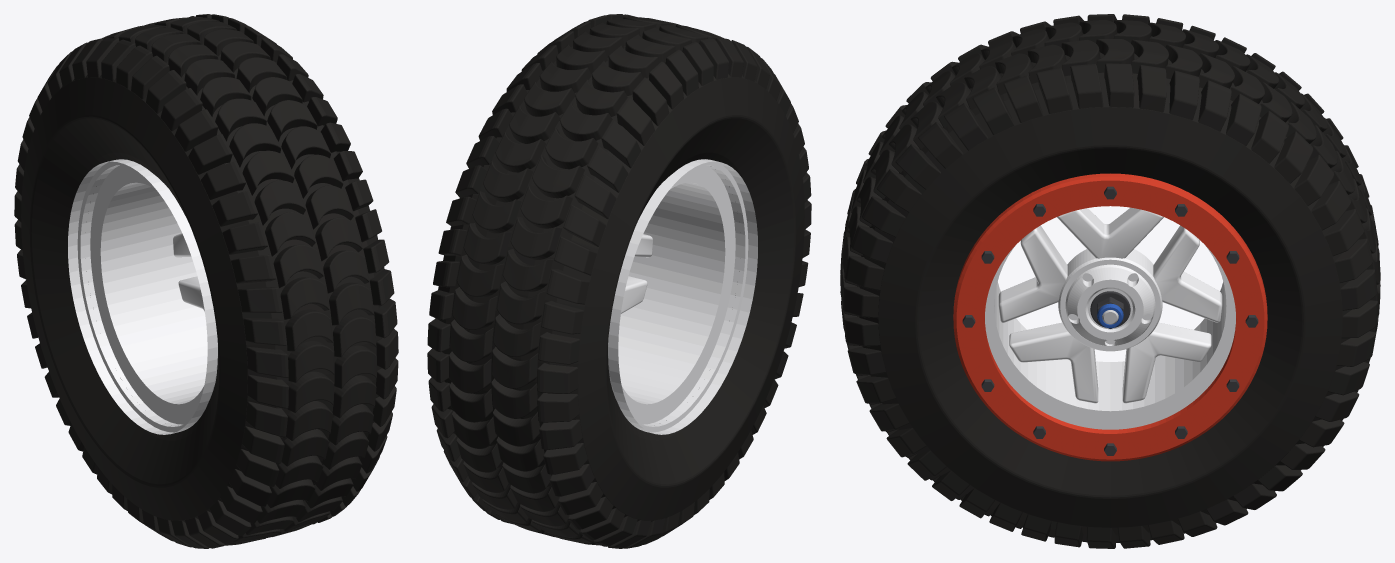
Rendered from traxxas_6873T_wheel_R.dae.
The picture shows the model from 3 angles, left to right: view 1: azimuth 30°, elevation 25°; view 2: azimuth 150°, elevation 25°; view 3: azimuth 270°, elevation 25°; orthographic projection. The views are drawn at different scales.
Visible parts, largest first — view 1: Tire_Carcass, Wheel_Barrel, Tread_UnitMesh_R.016, Tread_UnitMesh_R.022, Tread_UnitMesh_R.018, Tread_UnitMesh_R.023, Tread_UnitMesh_R.014, Tread_UnitMesh_R.006, Tread_UnitMesh_R.012, Tread_UnitMesh_R.004, Tread_UnitMesh_R.001, Tread_UnitMesh_R.009 (+7 smaller); view 2: Tire_Carcass, Wheel_Barrel, Tread_UnitMesh_R.015, Tread_UnitMesh_R.020, Tread_UnitMesh_R.008, Tread_UnitMesh_R.011, Tread_UnitMesh_R.010, Tread_UnitMesh_R.002, Tread_UnitMesh_R.009, Tread_UnitMesh_R.005, Tread_UnitMesh_R.004, Tread_UnitMesh_R.019 (+7 smaller); view 3: Tire_Carcass, Cylinder_001, Spoke_0, Wheel_Barrel, Cylinder, Tread_UnitMesh_R.004, Tread_UnitMesh_R.009, Tread_UnitMesh_R.006, Tread_UnitMesh_R.010, Tread_UnitMesh_R.023, Tread_UnitMesh_R.020, Tread_UnitMesh_R.022 (+19 smaller).
Part boxes in pixels (x1,y1,x2,y2): Tire_Carcass: (21,43,384,522); Wheel_Barrel: (68,159,217,434); Tread_UnitMesh_R.016: (243,269,397,382); Tread_UnitMesh_R.022: (212,151,373,256); Tread_UnitMesh_R.018: (231,209,389,319); Tread_UnitMesh_R.023: (188,97,350,199); Tread_UnitMesh_R.014: (246,329,398,440); Tread_UnitMesh_R.006: (160,54,323,151); Tread_UnitMesh_R.012: (236,386,396,488); Tread_UnitMesh_R.004: (131,26,292,113); Tread_UnitMesh_R.001: (220,435,387,523); Tread_UnitMesh_R.009: (101,14,248,88); Tire_Carcass: (435,46,804,521); Wheel_Barrel: (608,159,757,434); Tread_UnitMesh_R.015: (429,249,589,334); Tread_UnitMesh_R.020: (455,127,628,218); Tread_UnitMesh_R.008: (438,185,605,275); Tread_UnitMesh_R.011: (427,314,579,393); Tread_UnitMesh_R.010: (478,79,654,168); Tread_UnitMesh_R.002: (428,377,582,449); Tread_UnitMesh_R.009: (506,44,683,126); Tread_UnitMesh_R.005: (436,428,594,496); Tread_UnitMesh_R.004: (537,21,713,96); Tread_UnitMesh_R.019: (455,474,613,529); Tire_Carcass: (857,33,1351,535); Cylinder_001: (953,173,1267,461); Spoke_0: (998,207,1222,403); Wheel_Barrel: (985,244,1235,429); Cylinder: (1058,249,1162,351); Tread_UnitMesh_R.004: (1044,14,1134,108); Tread_UnitMesh_R.009: (1113,14,1202,120); Tread_UnitMesh_R.006: (979,21,1072,122); Tread_UnitMesh_R.010: (1182,25,1264,146); Tread_UnitMesh_R.023: (923,44,1014,150); Tread_UnitMesh_R.020: (1246,53,1316,183); Tread_UnitMesh_R.022: (879,82,963,189).
Bounding box in the file's own units: 0.0393 × 0.1095 × 0.1095.
